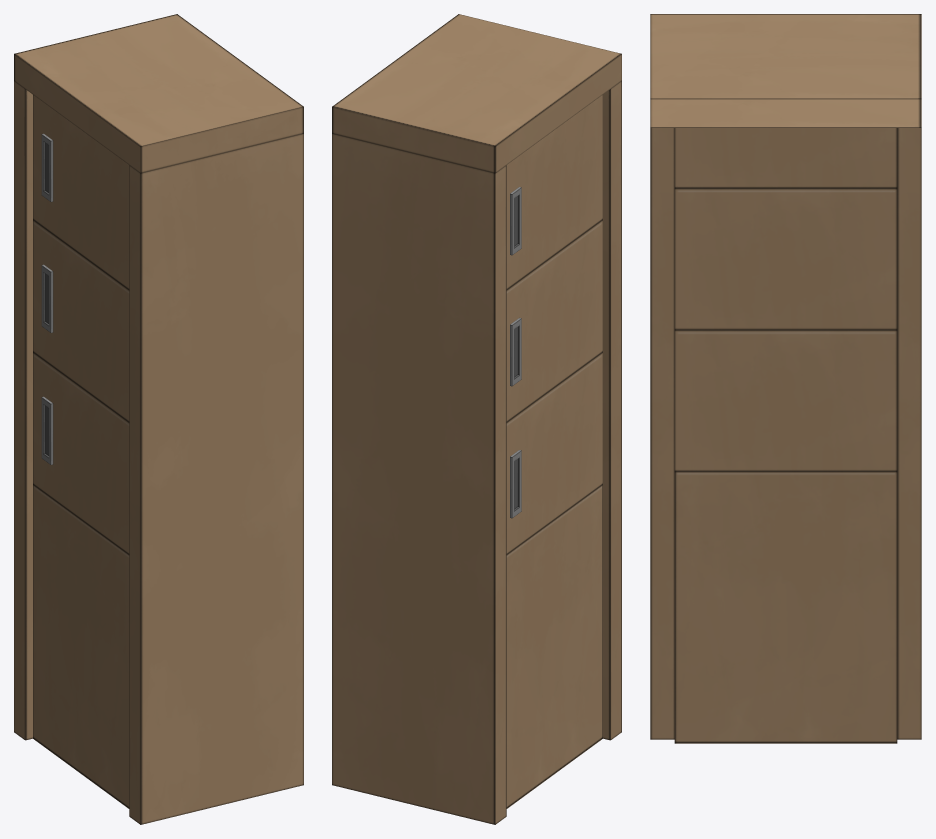
Rendered from cupboard2.fbx.
3 views of the same model, side by side, from view 1: azimuth 30°, elevation 25°; view 2: azimuth 150°, elevation 25°; view 3: azimuth 270°, elevation 25° (orthographic). The views are drawn at different scales.
Parts seen in each view (by area): view 1: polySurface1545; view 2: polySurface1545; view 3: polySurface1545.
Boxes of the visible parts, left/top/right/bottom form: polySurface1545: left=14, top=14, right=303, bottom=824; polySurface1545: left=332, top=14, right=621, bottom=824; polySurface1545: left=650, top=14, right=921, bottom=743.
Size of the model in its own units: 0.678 by 2.69 by 0.9114.
